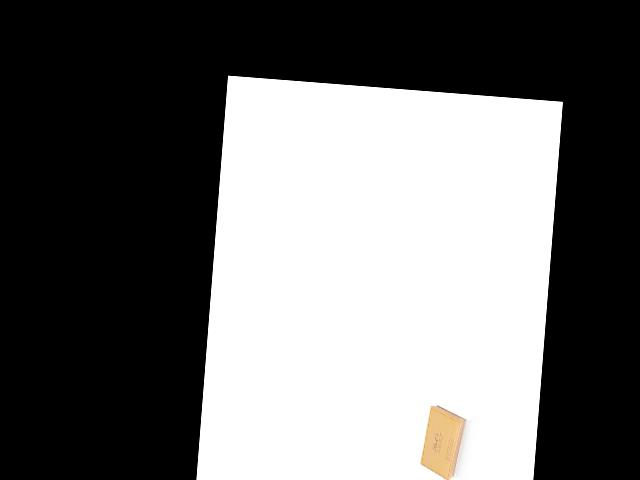chocolate: (417, 402, 473, 480)
